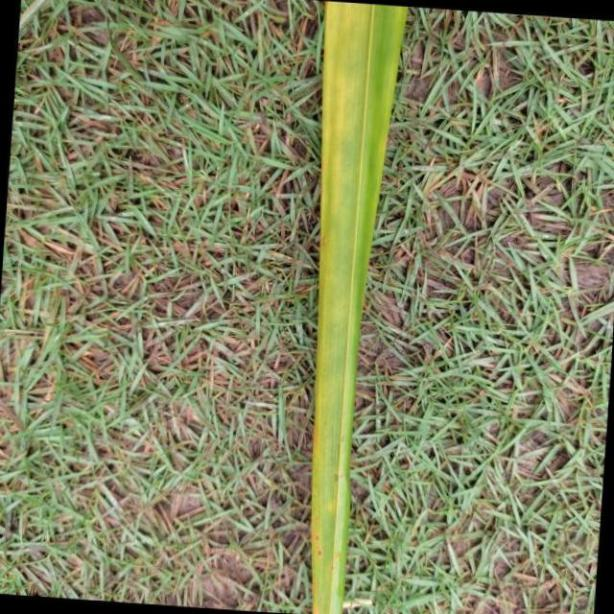nitrogen: (314, 0, 405, 614)
